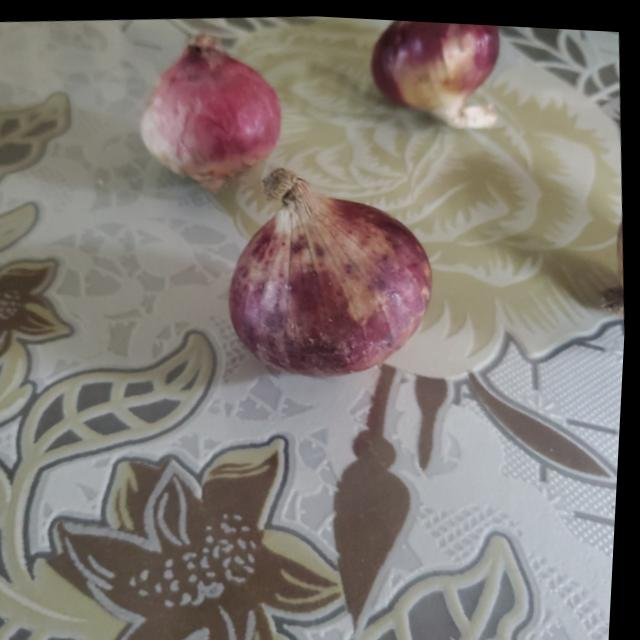onion: (218, 155, 451, 386), (129, 20, 285, 178), (365, 15, 504, 107)
